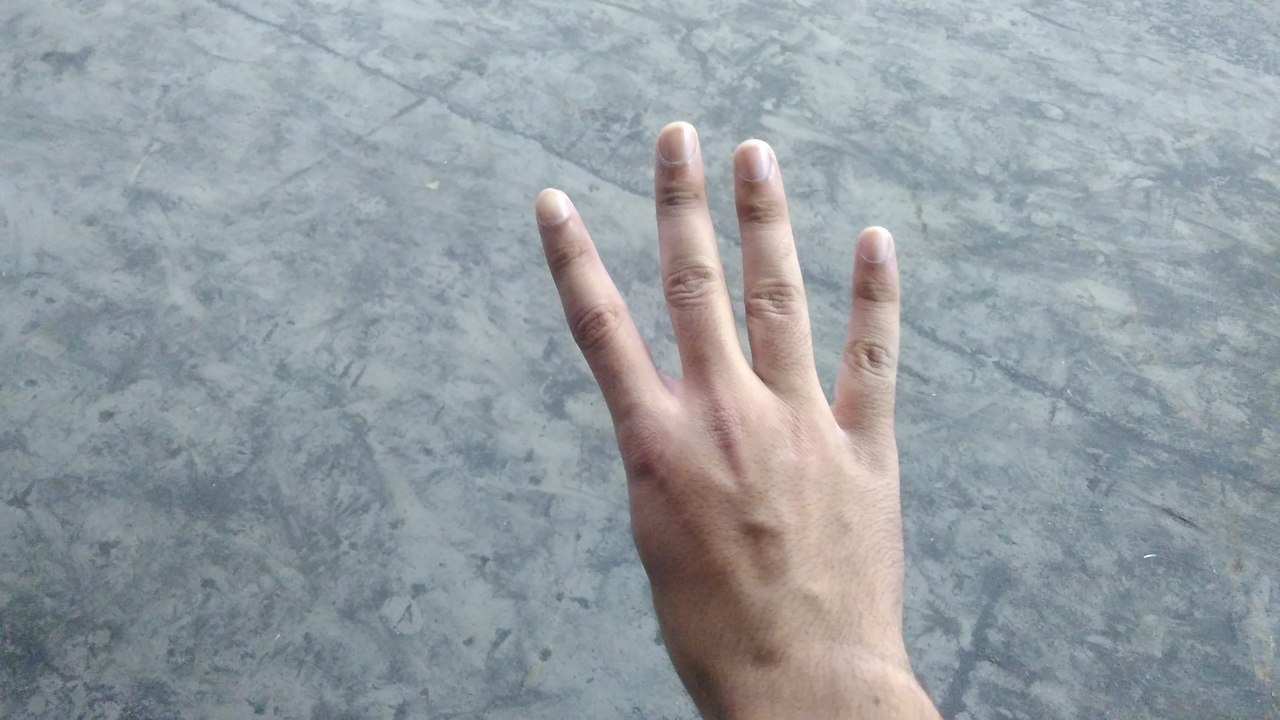fingertip: (726, 132, 790, 192), (524, 176, 584, 232), (850, 216, 906, 276), (652, 118, 708, 170)
